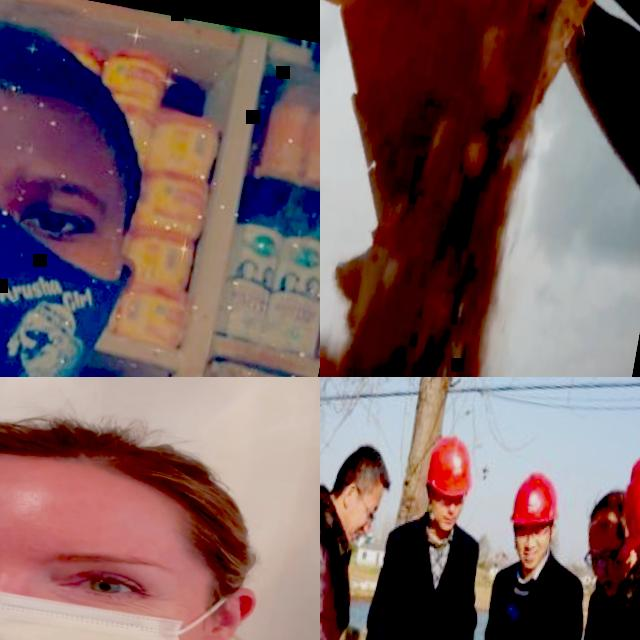Hardhat: (506, 467, 566, 533), (422, 431, 478, 500), (613, 434, 640, 572)
Mask: (0, 172, 137, 377), (0, 522, 228, 640)
NO-Hardhat: (0, 385, 257, 539), (0, 0, 152, 173), (342, 441, 398, 487), (586, 481, 630, 536)
NO-Mask: (338, 501, 368, 545), (594, 561, 627, 601), (515, 541, 547, 574), (428, 507, 458, 535)
NO-Safety Vest: (372, 525, 474, 640), (476, 560, 572, 640)
Person: (0, 0, 320, 377), (0, 377, 320, 640), (320, 422, 509, 640), (430, 462, 609, 640), (320, 428, 424, 640), (513, 479, 640, 640), (549, 433, 640, 640)
vehicle: (320, 0, 640, 247)
